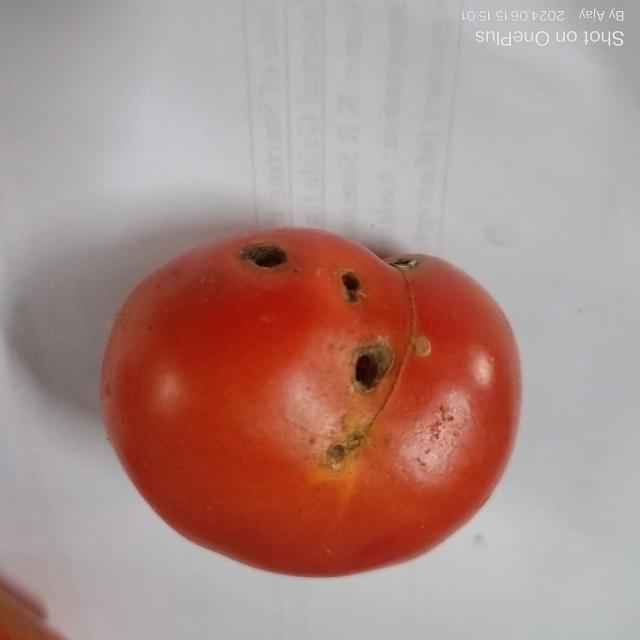fruitworm_bore: (344, 346, 394, 394), (240, 234, 288, 272), (318, 434, 358, 472), (333, 266, 368, 308)
